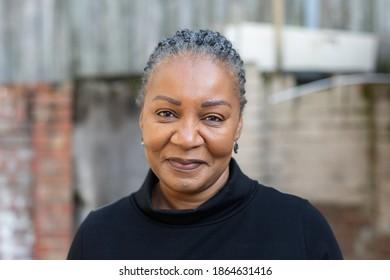face: (145, 73, 236, 193)
